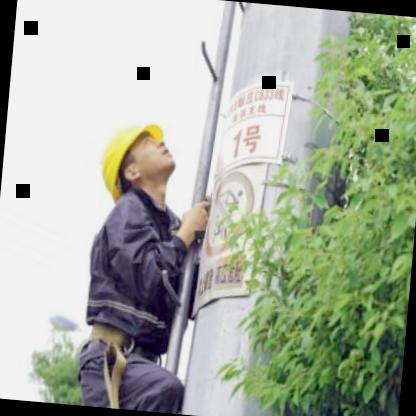helmet: (97, 111, 183, 207)
